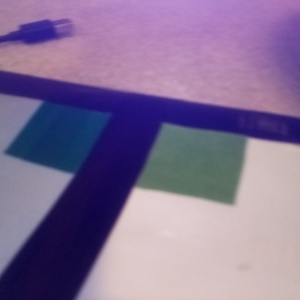bottom_left: (1, 109, 152, 187)
bottom_right: (97, 103, 252, 189)
